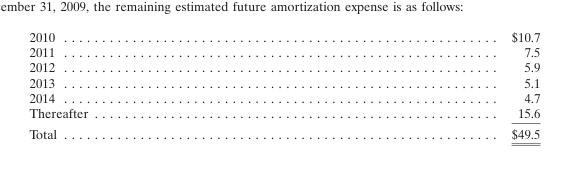table: (28, 28, 539, 141)
table column: (28, 28, 299, 141), (299, 28, 539, 141)
table row: (28, 105, 539, 123), (28, 123, 539, 141), (28, 43, 539, 59), (28, 89, 539, 105), (28, 28, 539, 43), (28, 59, 539, 74), (28, 74, 539, 89)
